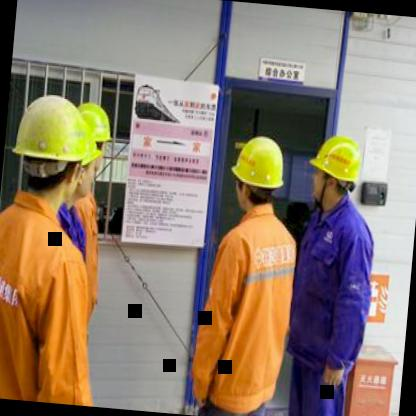helmet: (7, 84, 105, 212), (303, 125, 372, 216), (230, 127, 295, 218), (68, 98, 120, 197)
